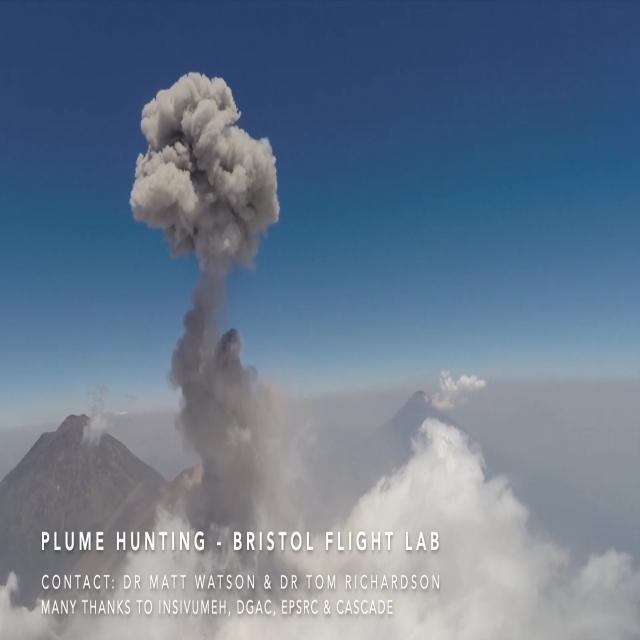Plume: (131, 63, 282, 276), (169, 290, 267, 518)
